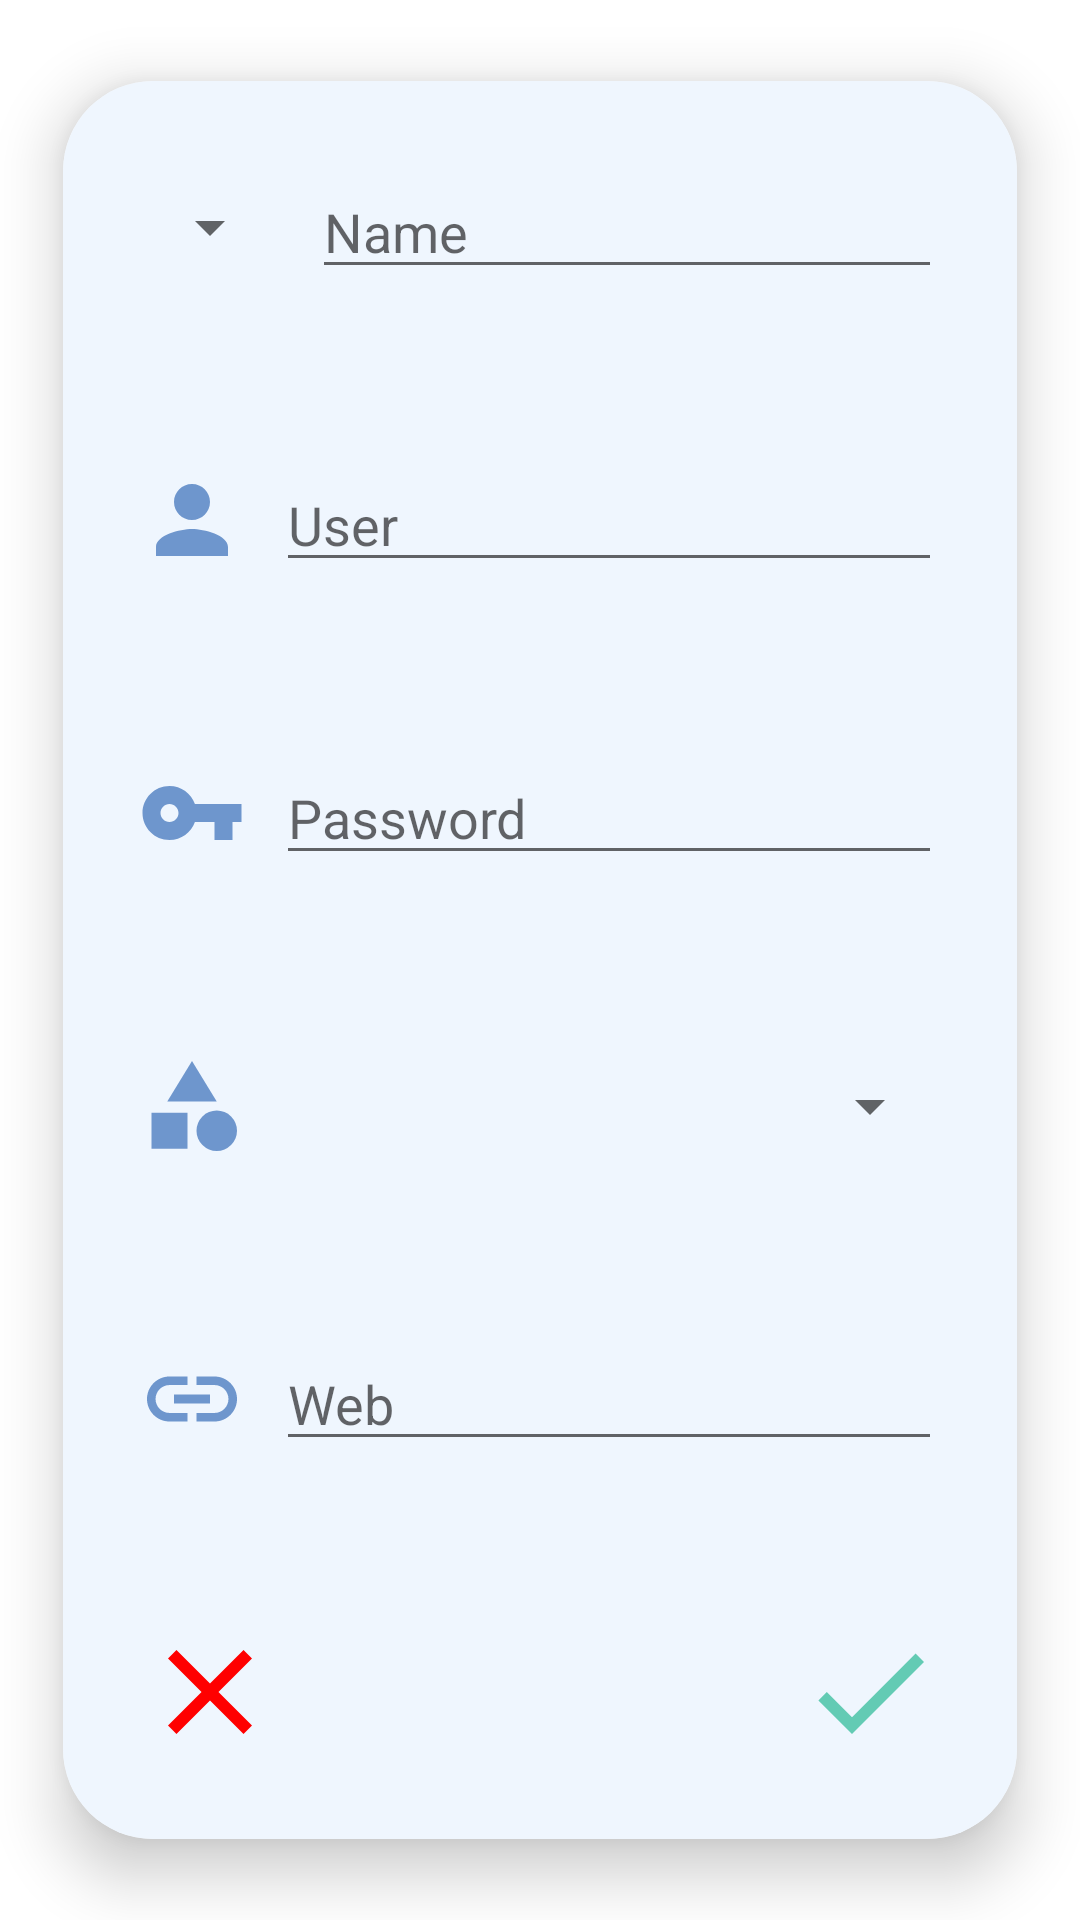

Named icons in this screenshot (1080x1920) and their centers, point (x, y):
account: point (192, 520)
category: point (194, 1106)
done: point (871, 1693)
pass key: point (192, 813)
url: point (192, 1399)
